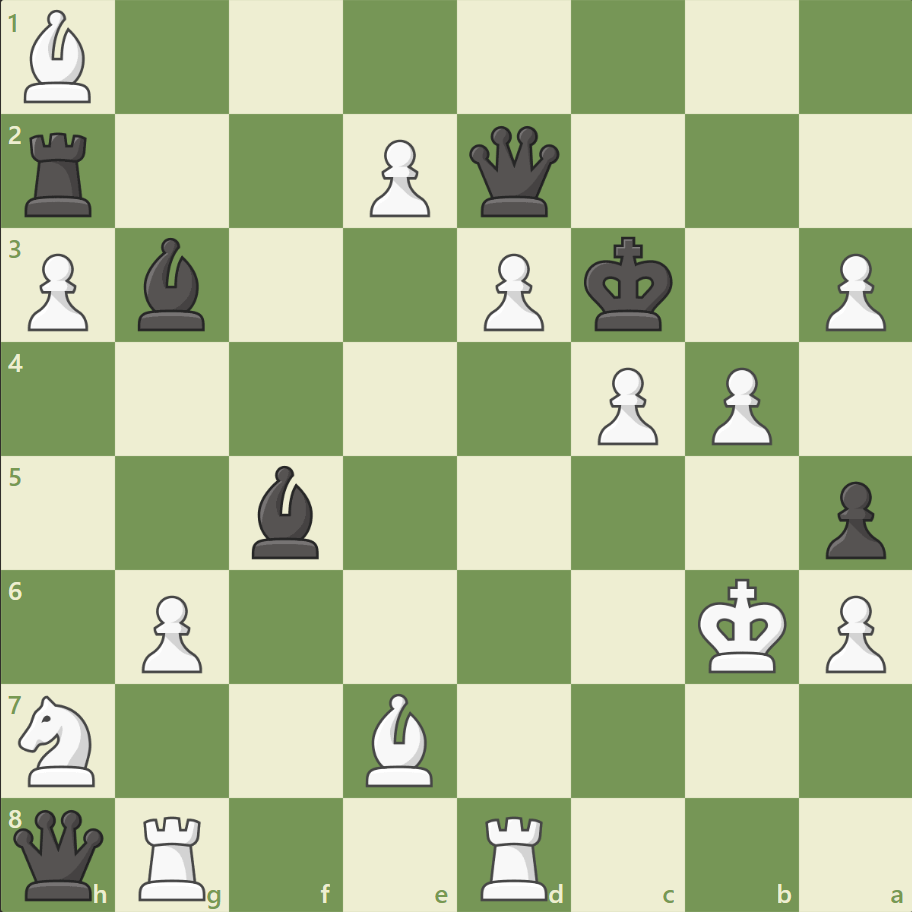B: (358, 687, 442, 790), (17, 6, 101, 109)
K: (692, 571, 792, 679)
N: (11, 688, 108, 791)
P: (133, 586, 208, 677), (701, 359, 776, 450), (474, 246, 549, 337), (20, 246, 95, 337), (815, 586, 889, 677), (588, 359, 662, 450), (815, 246, 889, 337), (361, 132, 435, 223)
R: (473, 806, 556, 904), (133, 806, 215, 904)
b: (244, 460, 328, 563), (131, 233, 215, 336)
k: (579, 231, 679, 339)
p: (815, 473, 889, 564)
q: (464, 122, 563, 222), (10, 804, 109, 903)
r: (19, 125, 102, 222)
